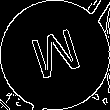M_S: (25, 24, 85, 86)
